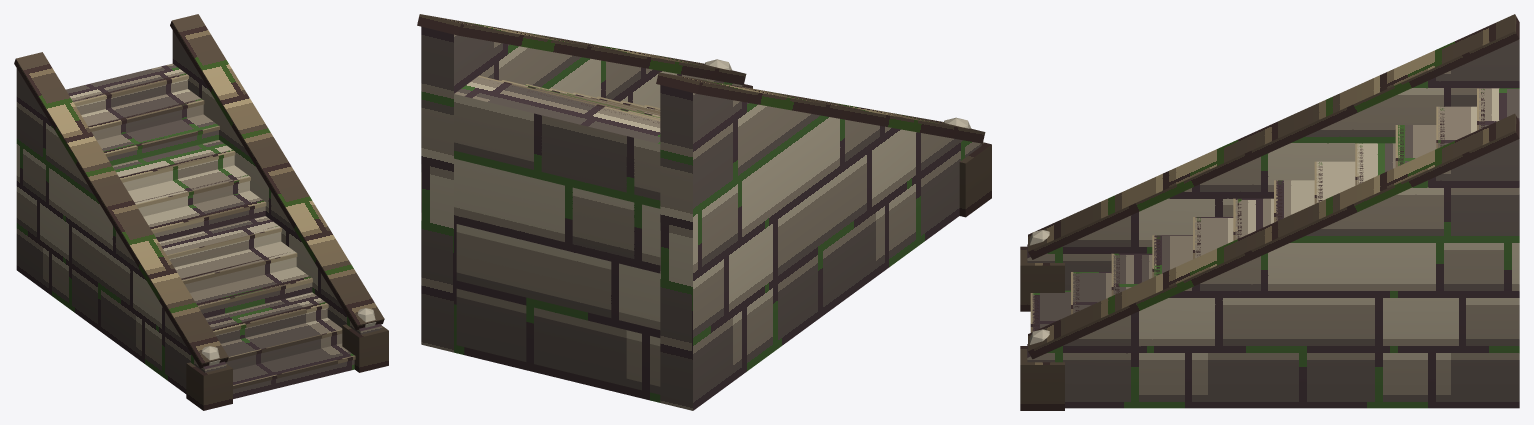
The model's file is scene_stair_terrace.glb.
3 renders of one model, left to right at view 1: azimuth 30°, elevation 25°; view 2: azimuth 150°, elevation 25°; view 3: azimuth 270°, elevation 25°, orthographic. The views are drawn at different scales.
Parts seen in each view (by area): view 1: scene_stair_terrace; view 2: scene_stair_terrace; view 3: scene_stair_terrace.
Boxes of the visible parts, x1,y1,x2,y2 form: scene_stair_terrace: (14, 14, 388, 410); scene_stair_terrace: (417, 14, 991, 410); scene_stair_terrace: (1020, 14, 1519, 410).
Bounding box in the file's own units: 2.76 × 3.04 × 4.92.
Materials: 2 (1 with a texture image).
